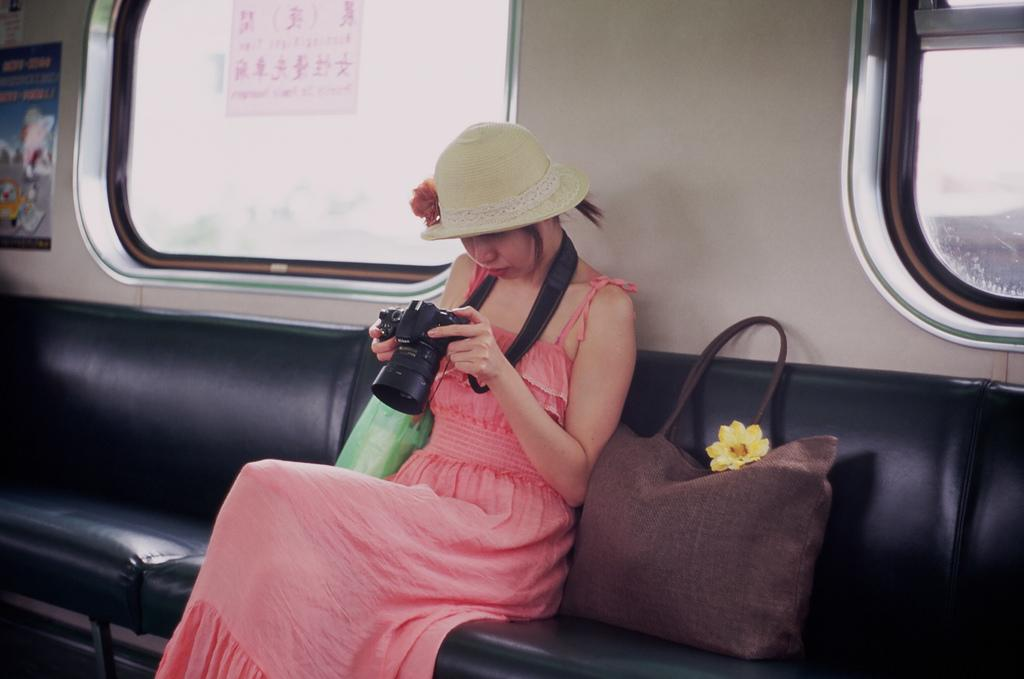Hat: (406, 122, 588, 239)
